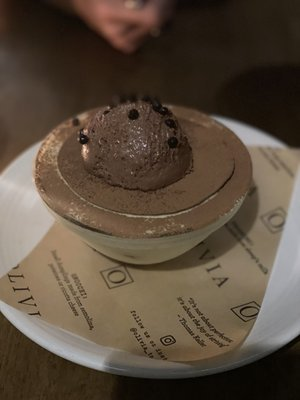sushi: (29, 98, 254, 266), (79, 96, 194, 191)
